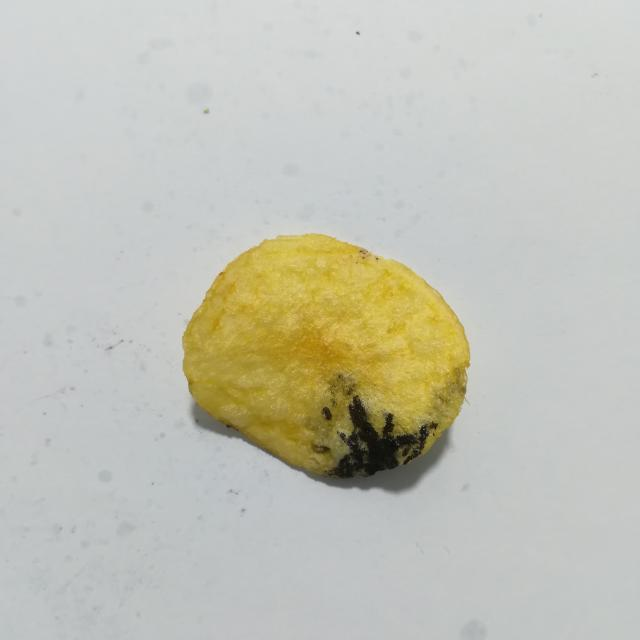chip: (183, 234, 470, 477)
damaged: (327, 396, 437, 478), (321, 407, 332, 421), (313, 445, 330, 453)
semi-damaged: (321, 370, 390, 467), (415, 351, 469, 431), (392, 414, 405, 436)
